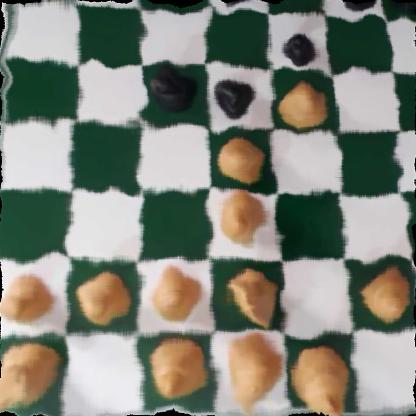black-knight: (202, 0, 259, 3)
black-pawn: (144, 63, 194, 114), (211, 73, 256, 120), (275, 23, 320, 68), (333, 0, 377, 10), (384, 0, 416, 13)
white-bishop: (149, 333, 205, 400), (214, 186, 269, 242)
white-king: (293, 339, 348, 416)
white-knight: (219, 268, 279, 329)
white-pawn: (355, 264, 409, 319), (76, 271, 130, 325), (0, 274, 56, 324), (144, 268, 198, 318), (215, 134, 268, 181), (274, 79, 328, 124), (411, 259, 416, 311)
white-queen: (219, 333, 287, 413)
white-rook: (0, 342, 62, 416)
